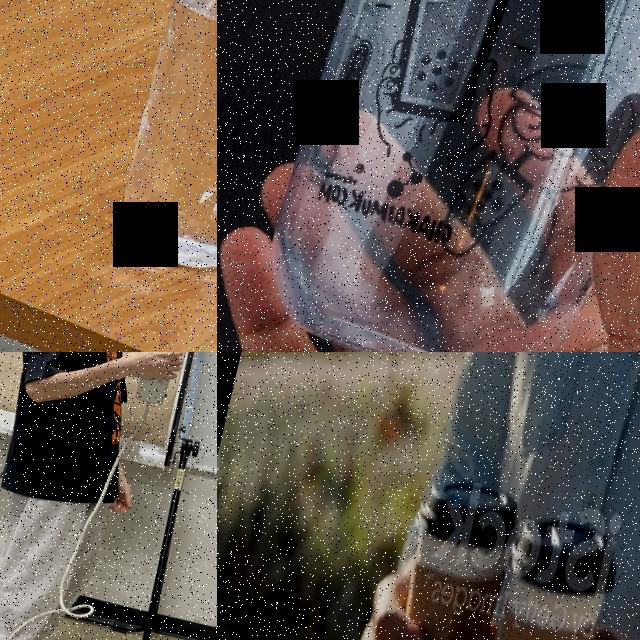bottle: (112, 0, 217, 277)
cup: (245, 0, 640, 352), (381, 468, 525, 640), (474, 510, 626, 640)
